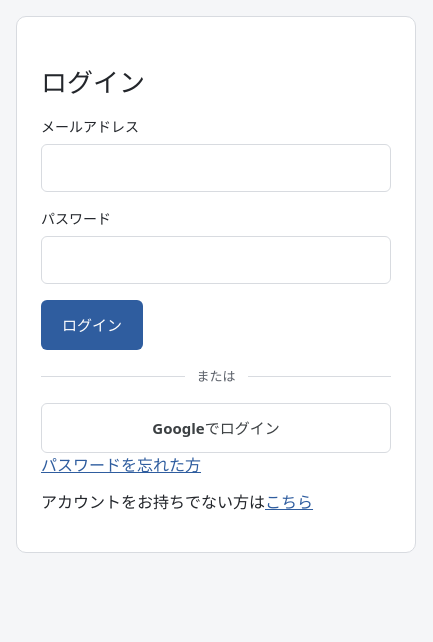
Test: LoginPage › メールアドレス・パスワード未入力で送信するとエラーメッセージを表示する
Click the button "ログイン".
click(92, 325)  # box [41,300,143,350]
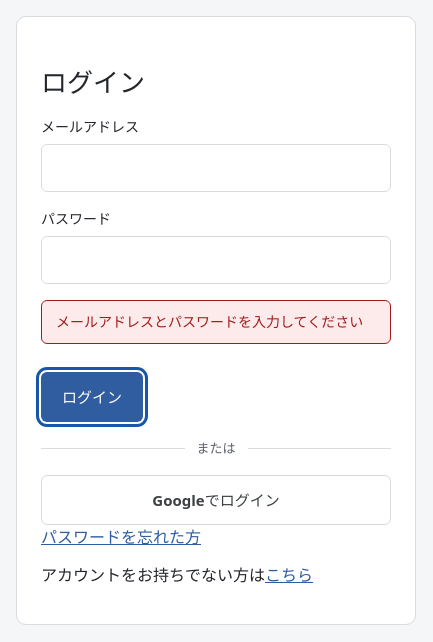
Expected: the message reads "メールアドレスとパスワードを入力してください", [56,312,363,331]
